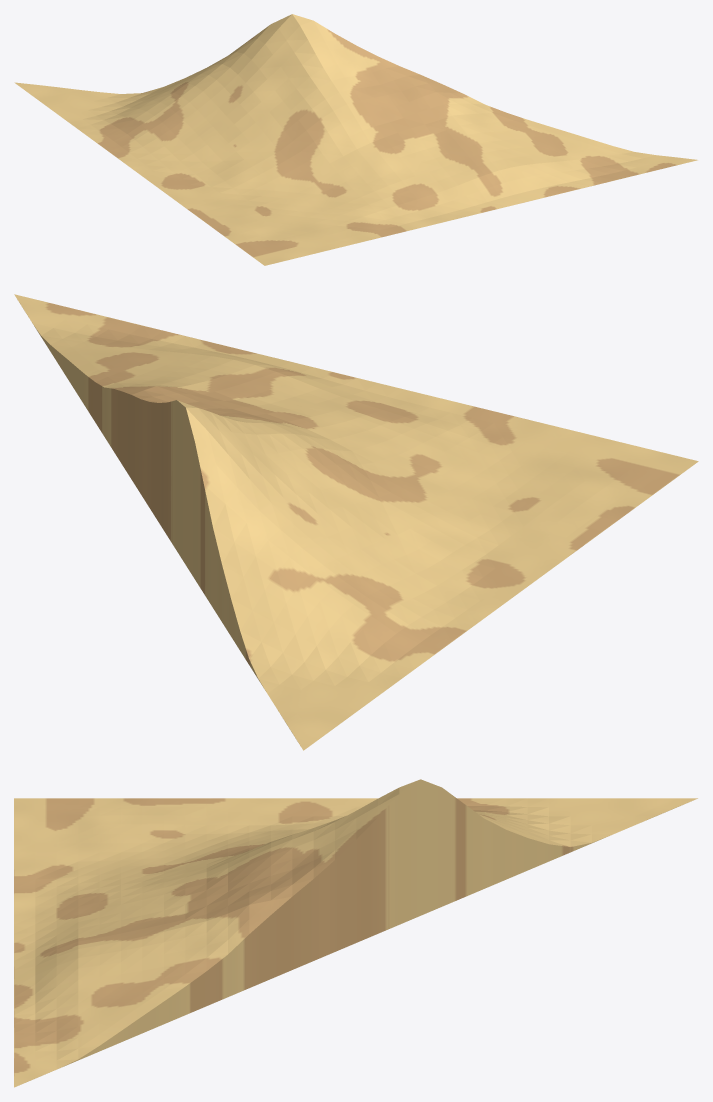
File: Desert_Mountains_03_NW.obj
The picture shows the model from 3 angles, top to bottom: view 1: azimuth 30°, elevation 25°; view 2: azimuth 150°, elevation 25°; view 3: azimuth 270°, elevation 25°; orthographic projection. The views are drawn at different scales.
Bounding box in the file's own units: 10 × 2.2 × 10.
1 material, 1 textured.
